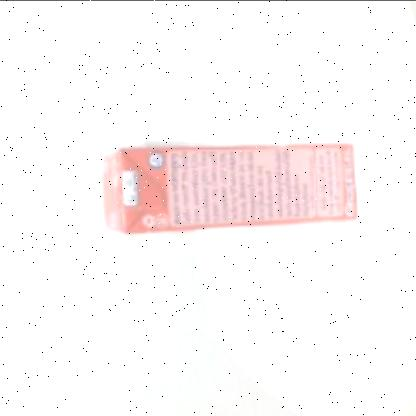Others: (99, 119, 362, 245)
